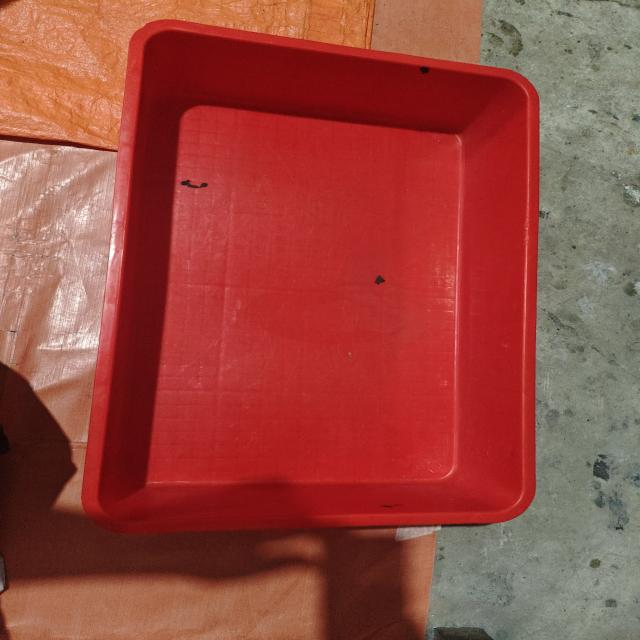red plastic box: (81, 19, 540, 534)
